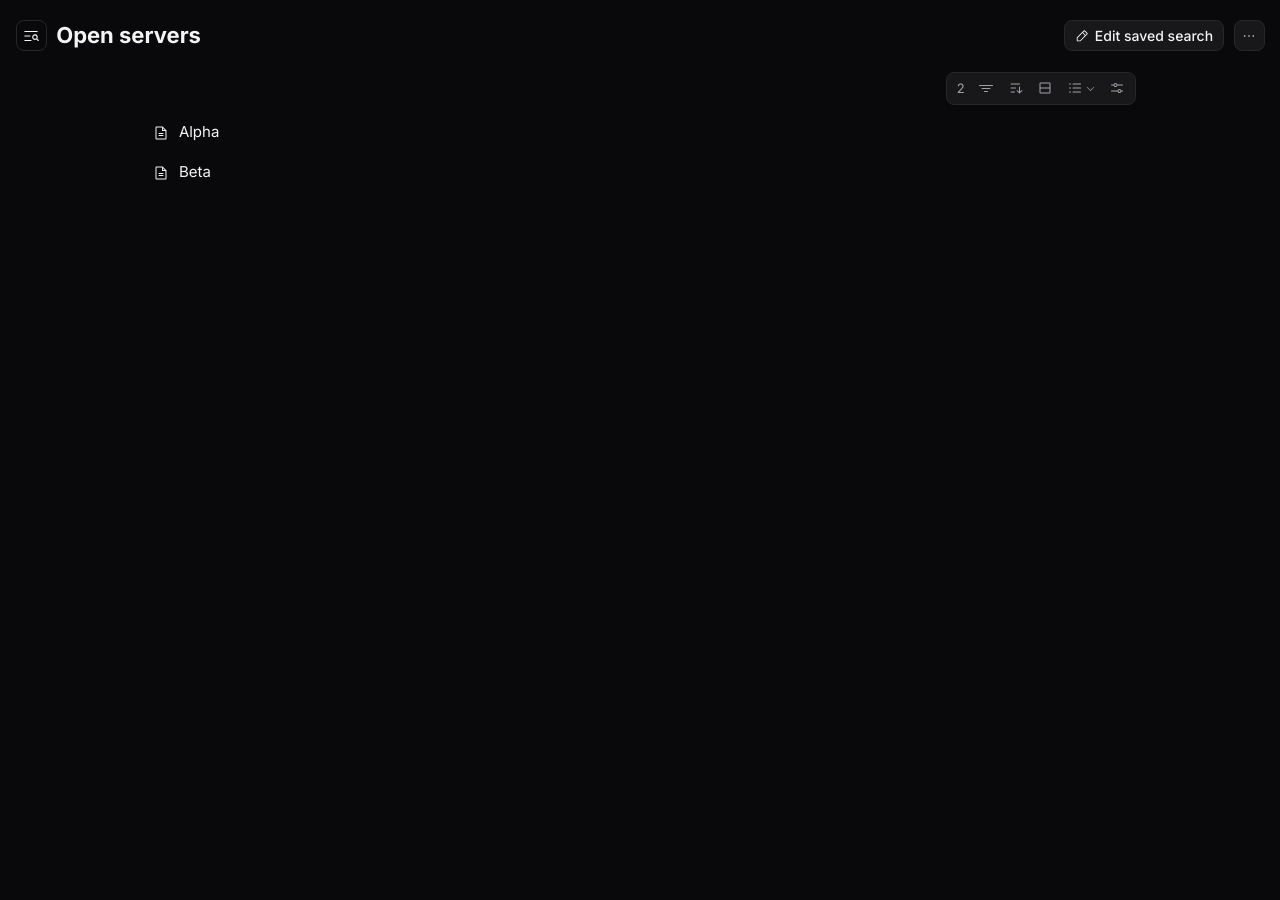
QueryPage › the builder adds a search term, a mode and a limit
Later steps or results of the test are not shown.
Click the button "Edit saved search".
click(1144, 36)  # box [1064,20,1224,51]
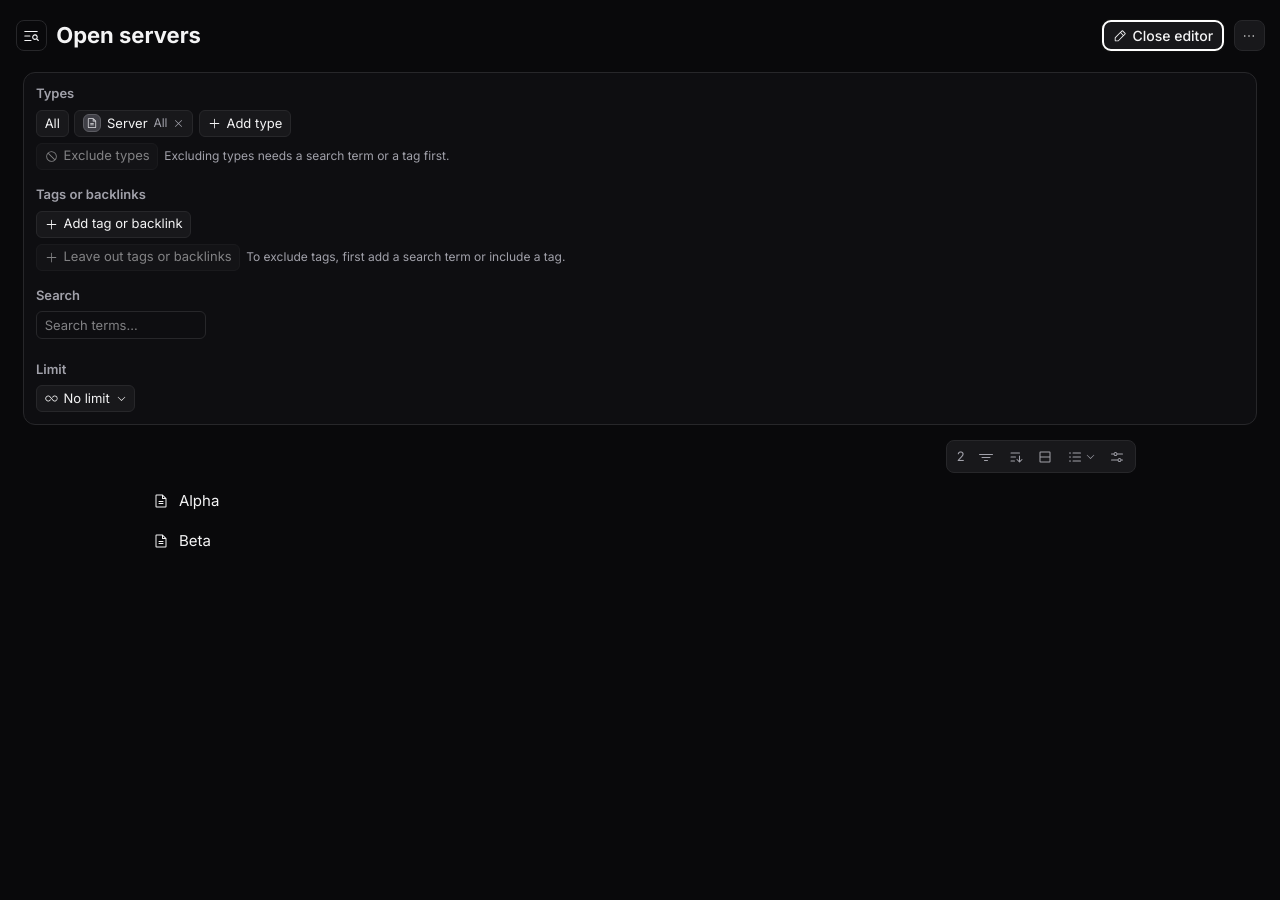
Type "x" into the field labelled "Search".
click(121, 325); type("x")  # box [36,311,206,338]
Then press Enter
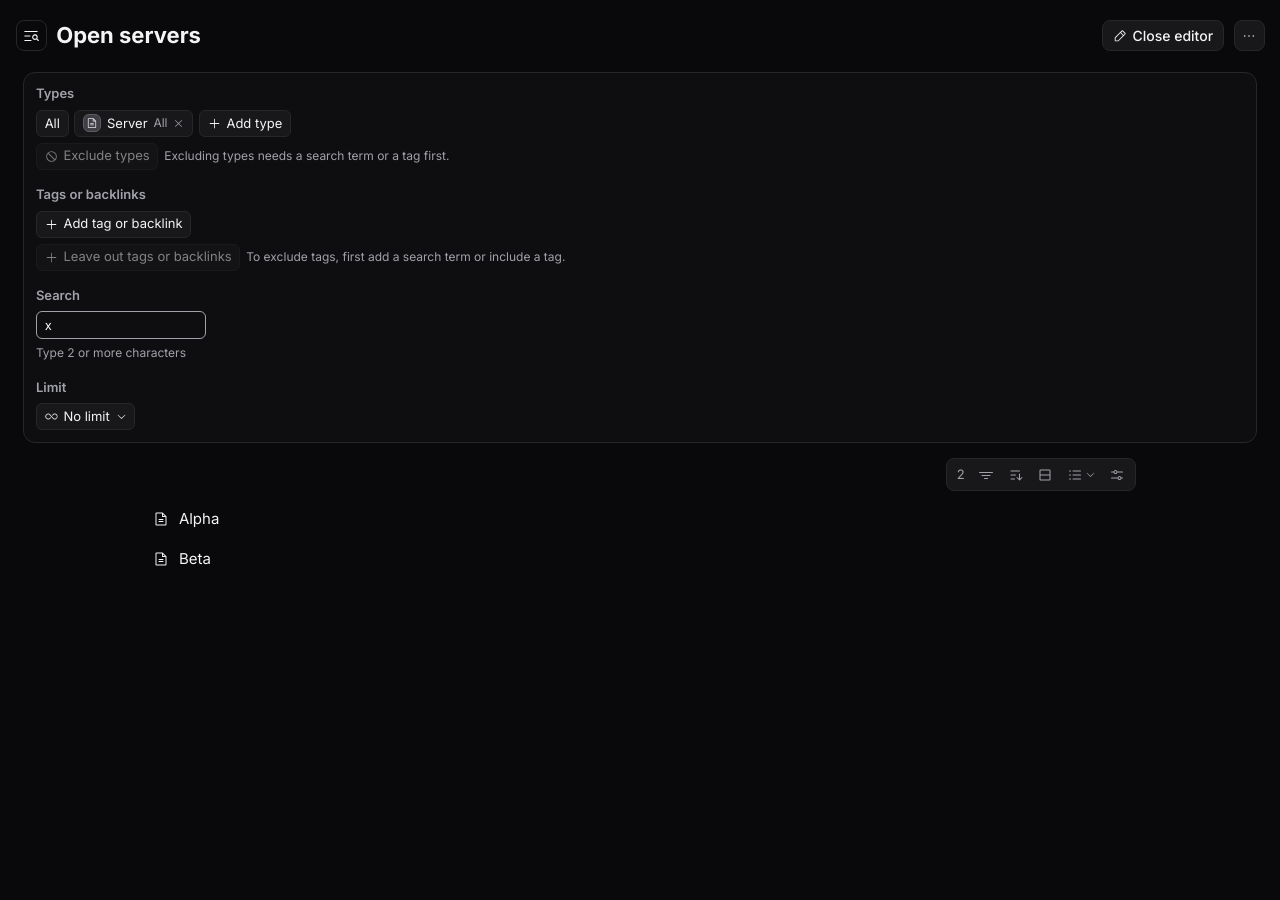
Now the text "Type 2 or more characters" is shown, box [36,345,186,360]
Replace the text in the field named "Search" with "plan" at (121, 325), box [36,311,206,338]
Then press Enter
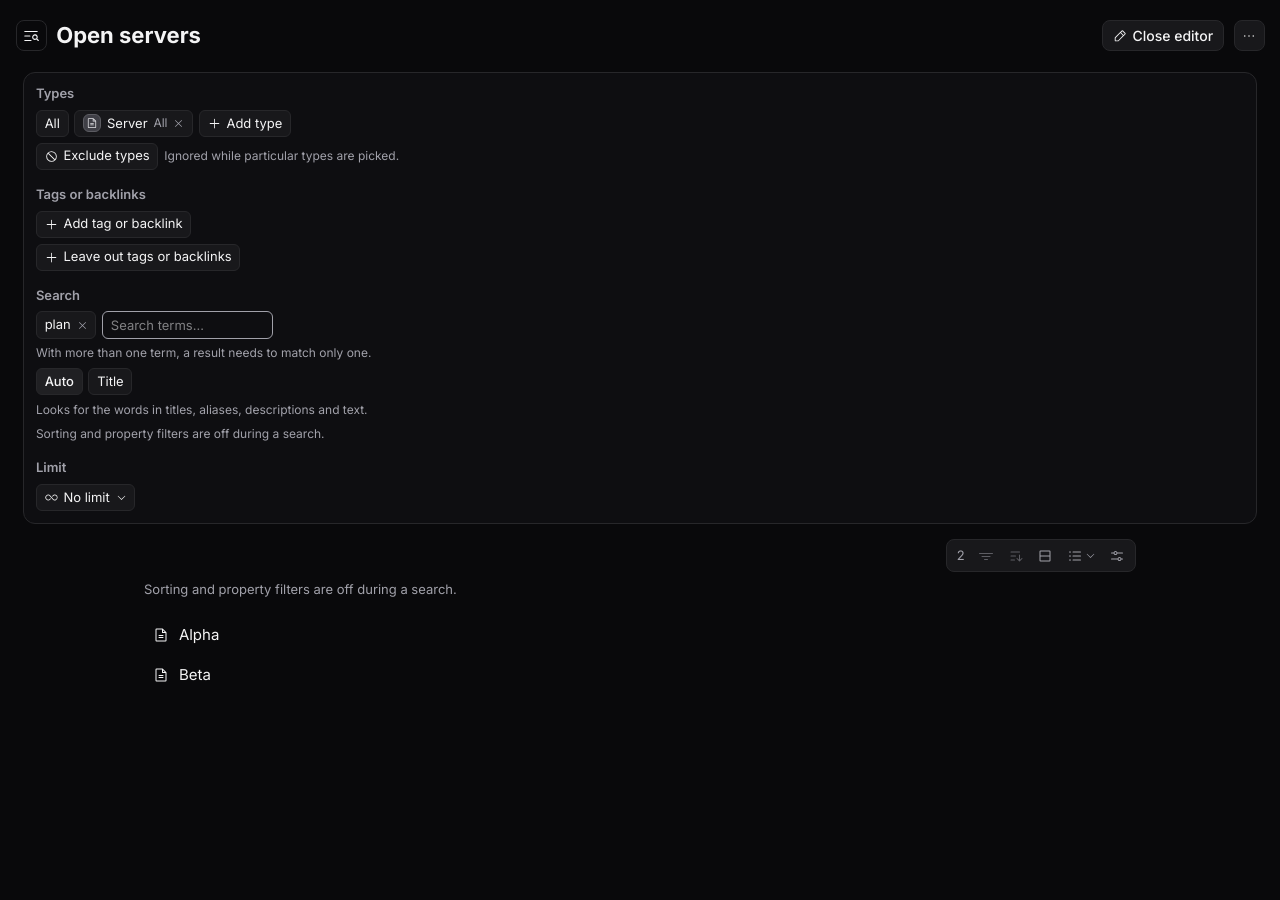
Now the text "With more than one term, a result needs to match only one." is shown, box [36,345,371,360]
Now the radio buttons read "Auto", "Title", in this order, box [36,368,83,395]; [88,368,132,395]
